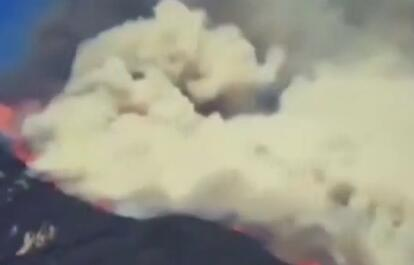yanwu: (22, 0, 411, 262)
